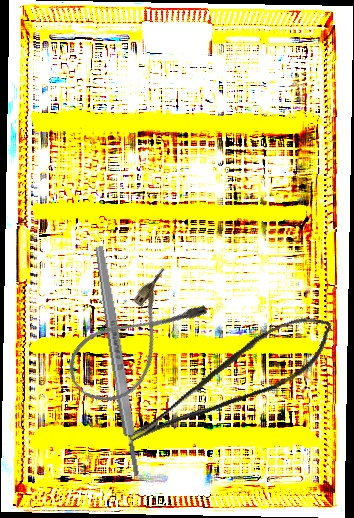Cannula: (56, 263, 213, 418)
Micro Scissor: (110, 303, 347, 451)
Scalpel Handle: (92, 245, 144, 477)
